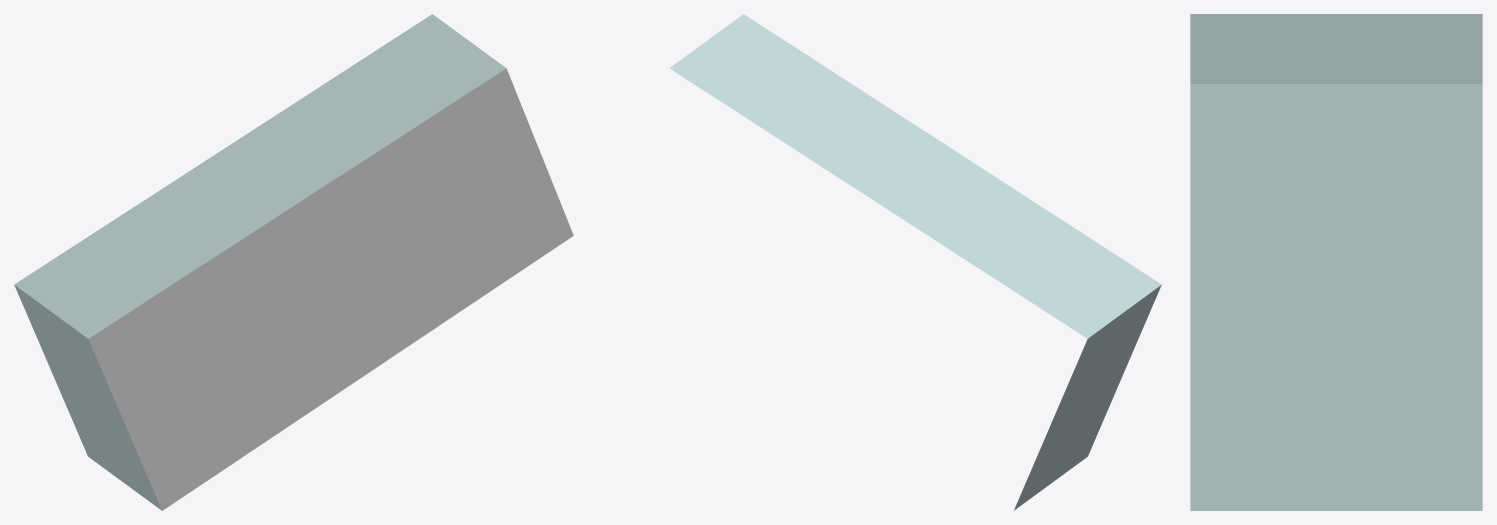
3 renders of one model, left to right at view 1: azimuth 30°, elevation 25°; view 2: azimuth 150°, elevation 25°; view 3: azimuth 270°, elevation 25°, orthographic. The views are drawn at different scales.
Parts seen in each view (by area): view 1: 0_1_1_2_3_0_0_2_3; view 2: 0_1_1_2_3_0_0_2_3; view 3: 0_1_1_2_3_0_0_2_3.
Boxes of the visible parts, box(x1,y1,x2,y2) form: 0_1_1_2_3_0_0_2_3: box(14, 14, 573, 510); 0_1_1_2_3_0_0_2_3: box(669, 14, 1161, 510); 0_1_1_2_3_0_0_2_3: box(1190, 14, 1482, 510).
Bounding box in the file's own units: 11.33 × 8 × 3.
